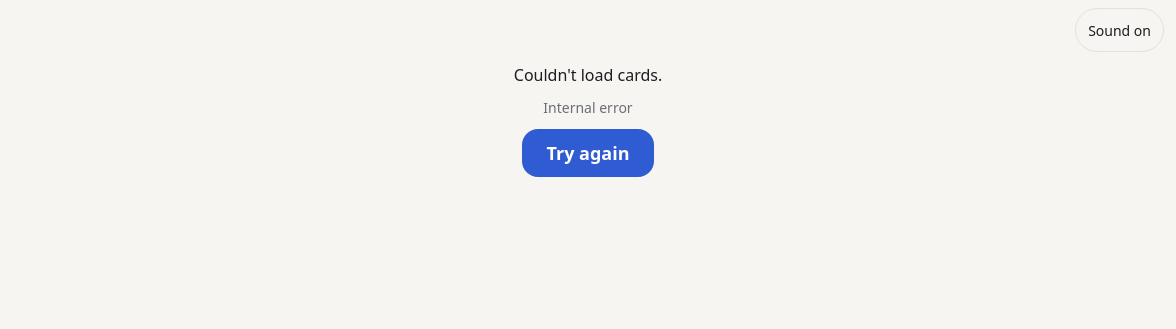
Test: ReviewScreen › shows an error with a way to try again when the queue can't load
expect the text "Couldn't load cards." is shown: met, box [514,64,662,86]
Step 1. Click the button "Try again" → (588, 153), box [522,129,654,177]
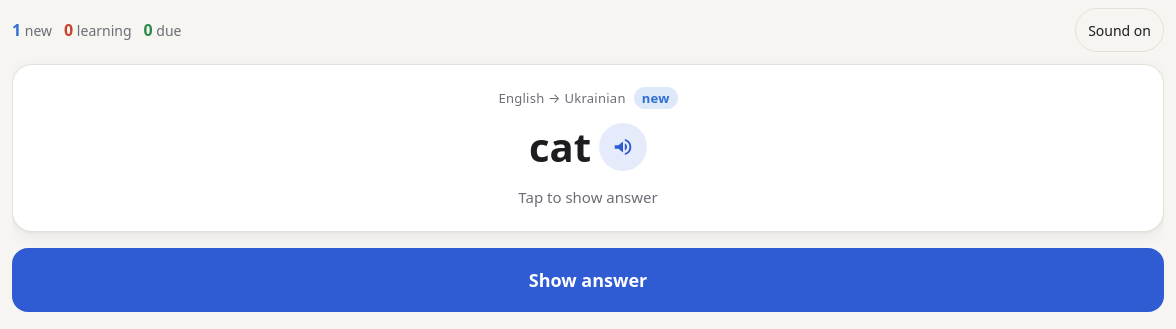
expect the text "cat" is shown: met, box [529,123,591,171]
